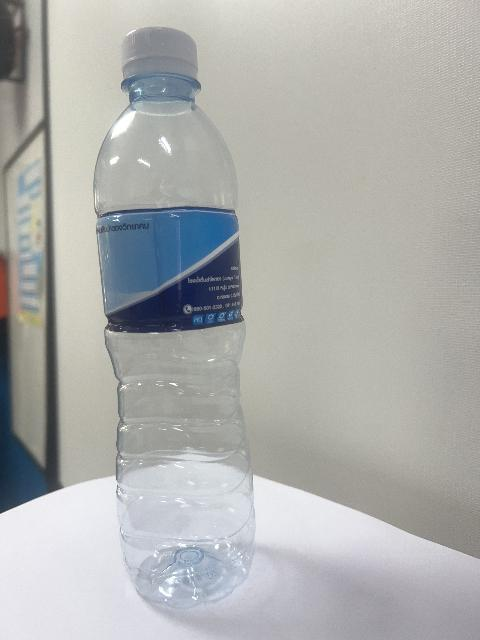bottle: (95, 28, 254, 607)
